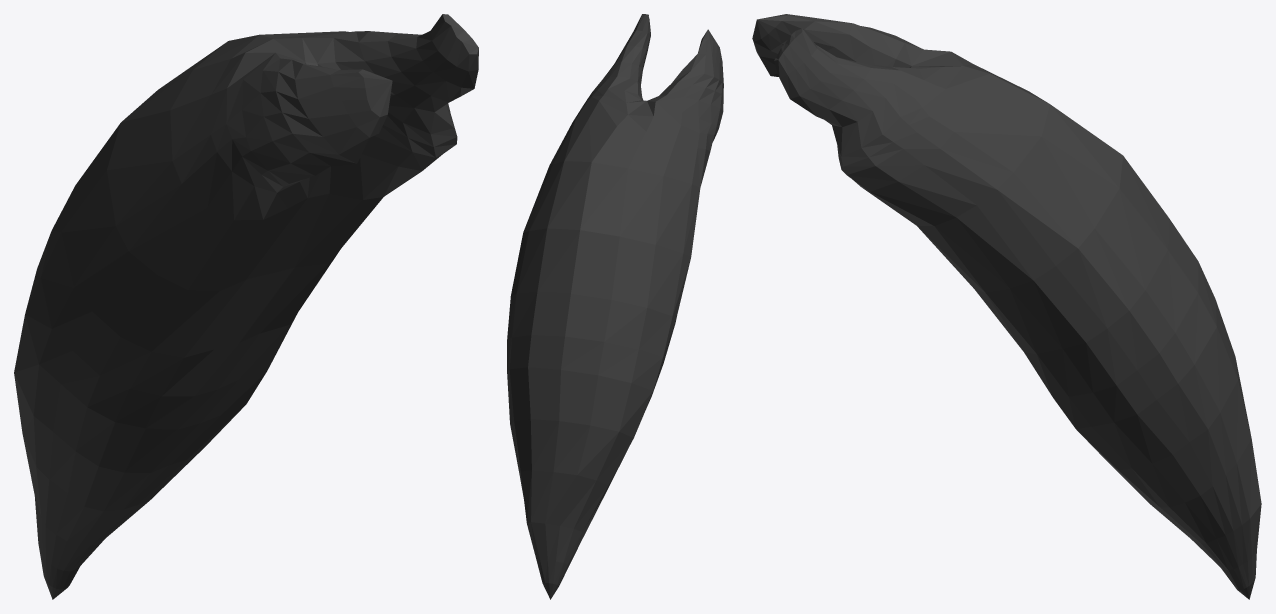
Rendered from Gastrocnemius.glb.
3 views of the same model, side by side, from view 1: azimuth 30°, elevation 25°; view 2: azimuth 150°, elevation 25°; view 3: azimuth 270°, elevation 25° (orthographic). The views are drawn at different scales.
Visible parts, largest first — view 1: Gastrocnemius; view 2: Gastrocnemius; view 3: Gastrocnemius.
Part boxes in pixels (<box>): Gastrocnemius: <box>14,14,478,599</box>; Gastrocnemius: <box>507,14,723,599</box>; Gastrocnemius: <box>752,14,1261,599</box>.
Bounding box in the file's own units: 2.1 × 5.81 × 4.35.
1 material, 1 textured.
